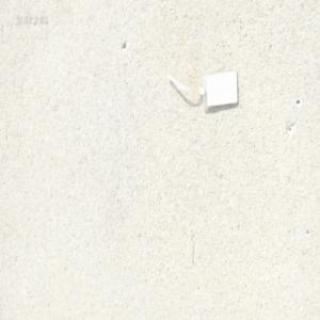LuggageTagtrack_idkeyframe: (163, 67, 240, 111)
